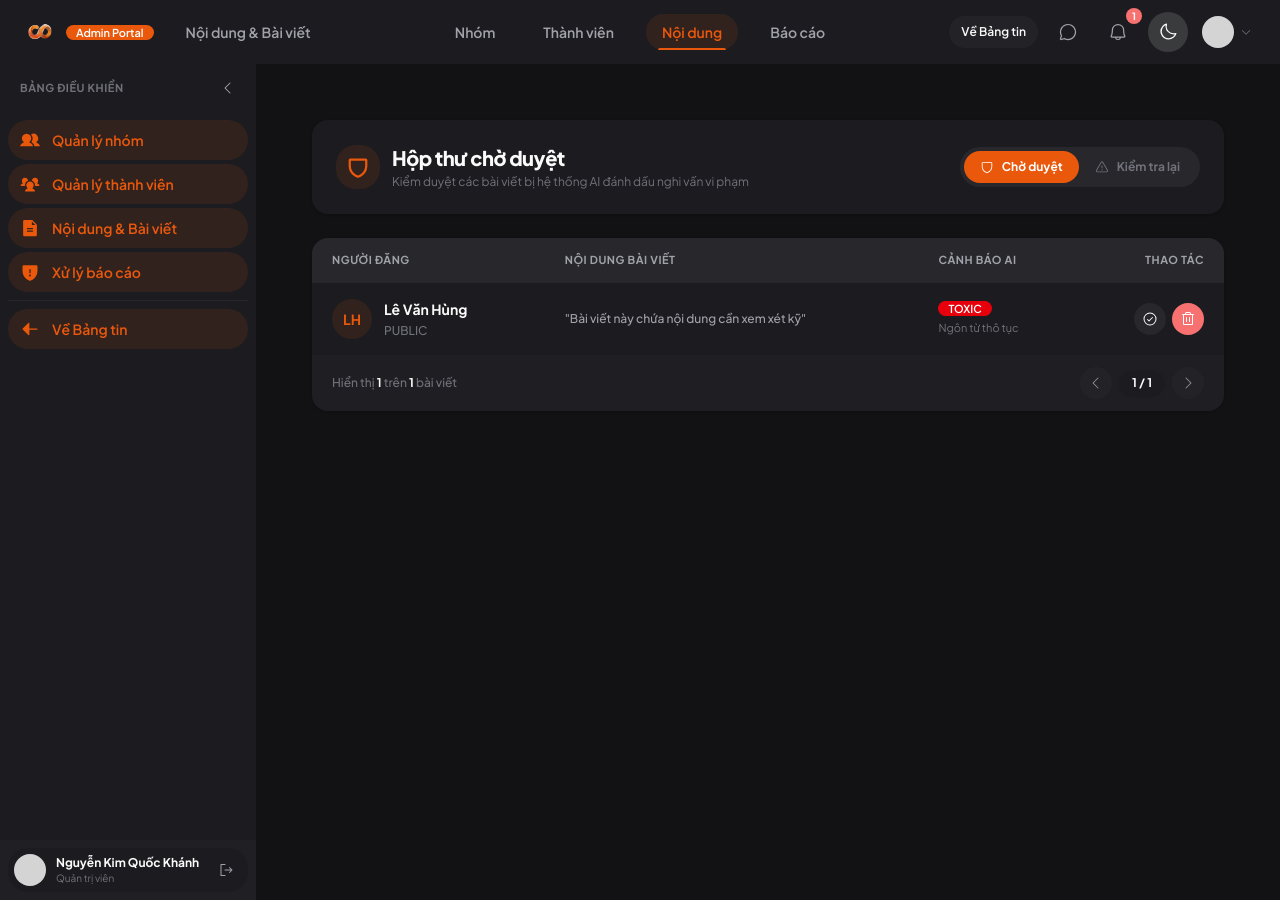
PR #24: Admin Portal Suite › <MainFeedManager /> › opens ConfirmDialog when clicking delete post
Expected: the text "\"Bài viết này chứa nội dung cần xem xét kỹ\"" is shown, x1=565 y1=311 x2=806 y2=326
Click the button named "Xóa bài viết vi phạm" at (1188, 318), box x1=1172 y1=302 x2=1204 y2=334
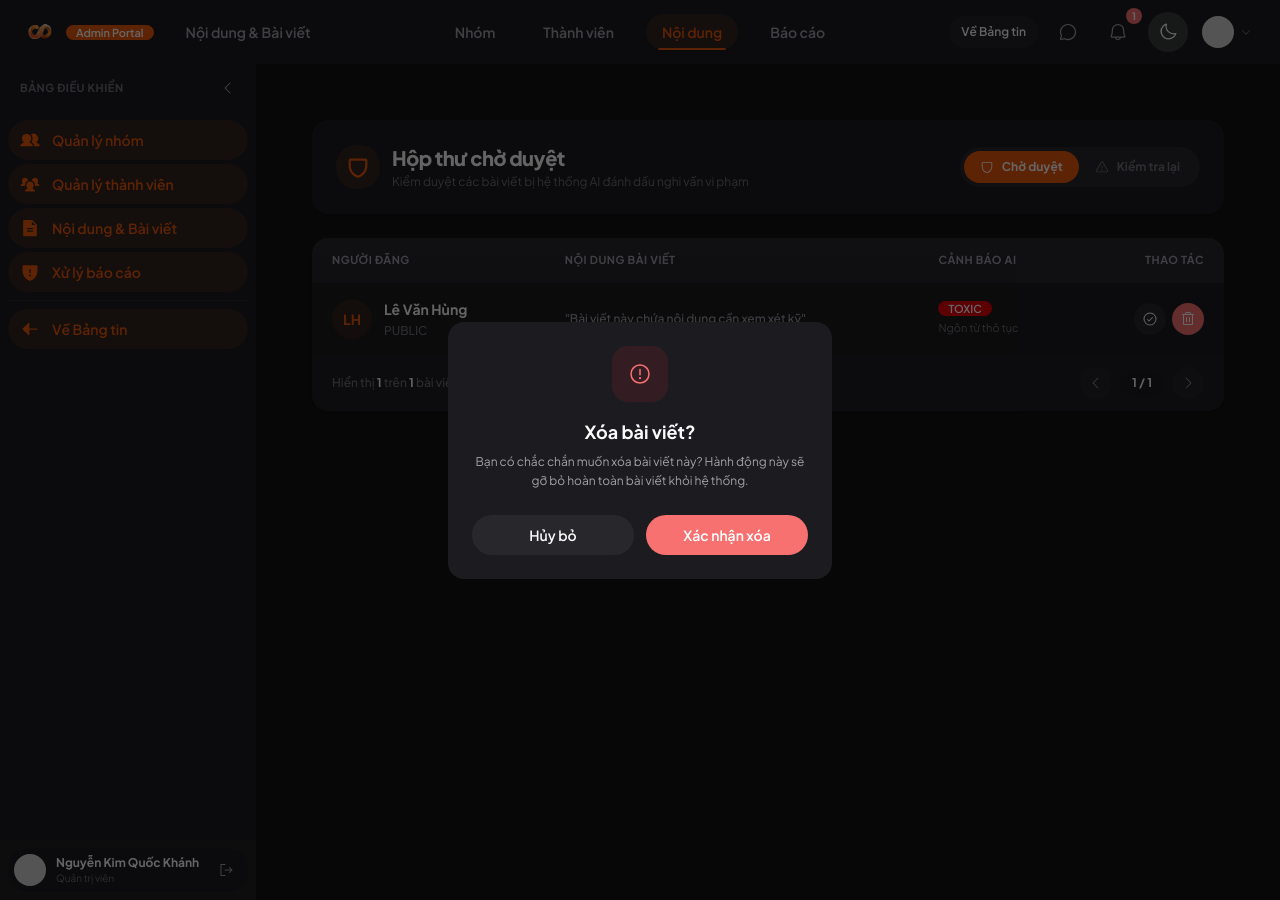
Now the heading "Xóa bài viết?" is shown, box x1=585 y1=420 x2=696 y2=442
